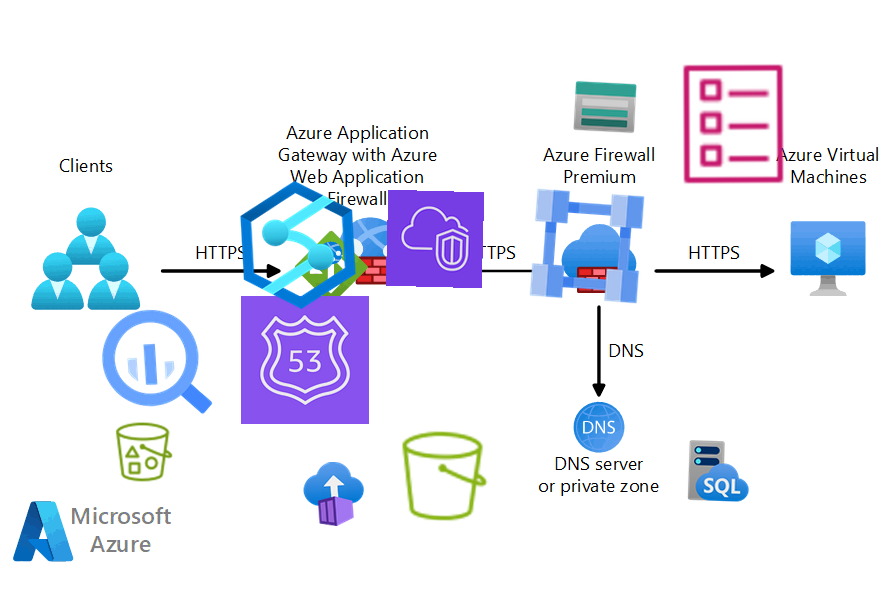aws_amazon_route_53: (240, 295, 370, 425)
aws_amazon_virtual_private_cloud: (385, 189, 485, 289)
aws_cloudformation_template: (667, 59, 797, 189)
aws_simple_storage_service_bucket_with_objects: (111, 419, 177, 485)
aws_simple_storage_service_s3_standard: (394, 426, 494, 526)
azure_container_instances: (299, 459, 369, 529)
azure_sql_managed_instance: (685, 437, 753, 505)
azure_storage_accounts: (571, 73, 639, 141)
azure_synapse_analytics: (230, 177, 366, 313)
gcp_bigquery: (88, 295, 224, 431)
gcp_virtual_private_cloud: (518, 177, 656, 315)
